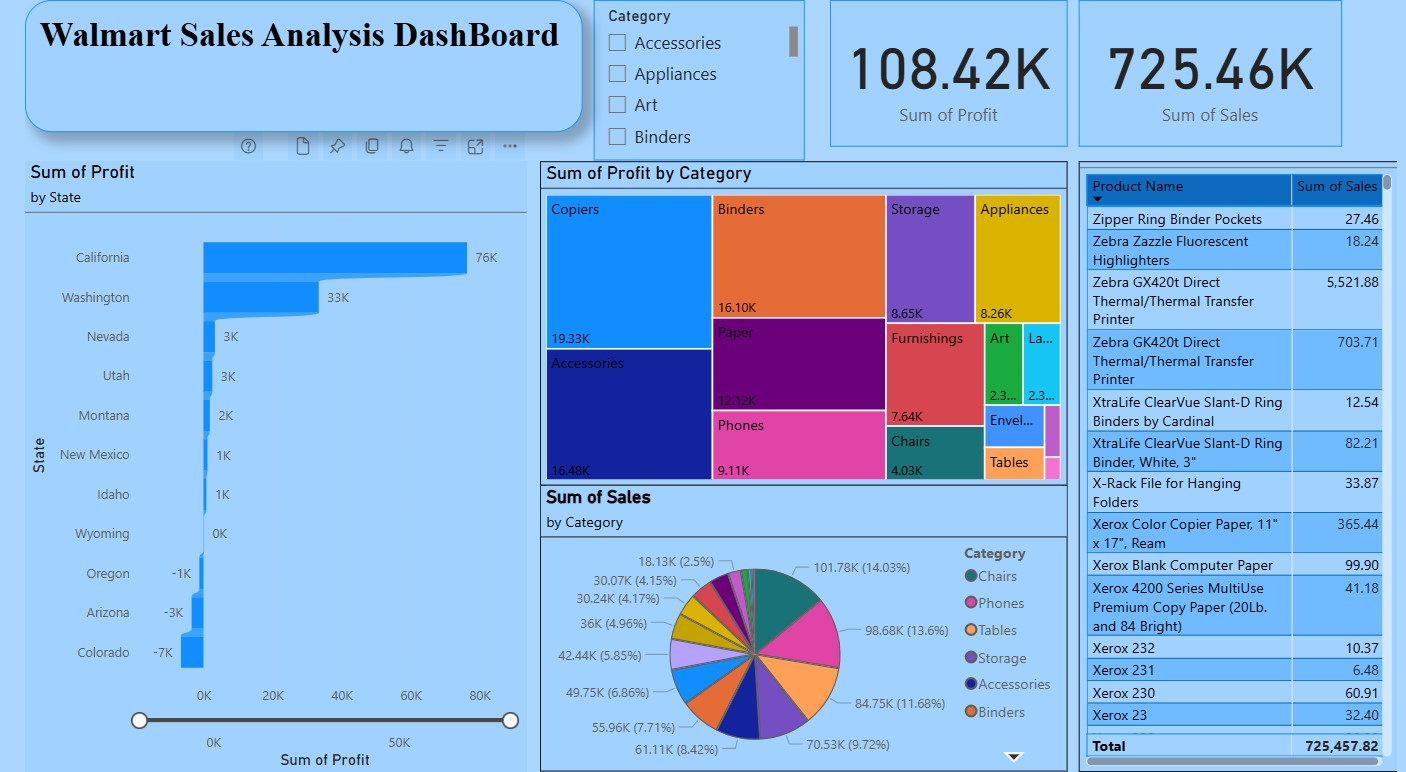

The page's visual inventory and layout, read from the dashboard file:
{"tool":"powerbi","page":{"name":"Page 1","canvas":[1280,720],"ordinal":0},"visuals":[{"type":"barChart","fields":{"Category":["Walmart.State"],"Y":["Sum(Walmart.Profit)"]},"box":[0,149.8,467.9,569.6],"z":0},{"type":"treemap","fields":{"Group":["Walmart.Category"],"Values":["Sum(Walmart.Profit)"]},"box":[480.6,149.8,491.9,302.5],"z":1000},{"type":"pieChart","fields":{"Category":["Walmart.Category"],"Y":["Sum(Walmart.Sales)"]},"box":[480.6,452.3,491.9,267.1],"z":2000},{"type":"tableEx","fields":{"Values":["Walmart.Product Name","Sum(Walmart.Sales)"]},"box":[982.3,149.8,298.2,569.6],"z":3000},{"type":"card","fields":{"Values":["Sum(Walmart.Sales)"]},"box":[982.3,0,245.9,137.1],"z":4000},{"type":"card","fields":{"Values":["Sum(Walmart.Profit)"]},"box":[750.5,0,221.9,137.1],"z":5000},{"type":"slicer","fields":{"Values":["Walmart.Category"]},"box":[530,0,196.5,149.8],"z":6000},{"type":"textbox","box":[0,0,520.1,123],"z":7000}]}

Visuals, with their boxes in screenshot pixels (x1, y1, x2, y2):
barChart - Walmart.State x Sum(Walmart.Profit): select_region(33, 159, 528, 761)
treemap - Walmart.Category x Sum(Walmart.Profit): select_region(542, 159, 1062, 479)
pieChart - Walmart.Category x Sum(Walmart.Sales): select_region(542, 479, 1062, 761)
tableEx - Walmart.Product Name x Sum(Walmart.Sales): select_region(1072, 159, 1388, 761)
card - Sum(Walmart.Sales): select_region(1072, 0, 1333, 145)
card - Sum(Walmart.Profit): select_region(827, 0, 1062, 145)
slicer - Walmart.Category: select_region(594, 0, 802, 159)
textbox: select_region(33, 0, 583, 130)
